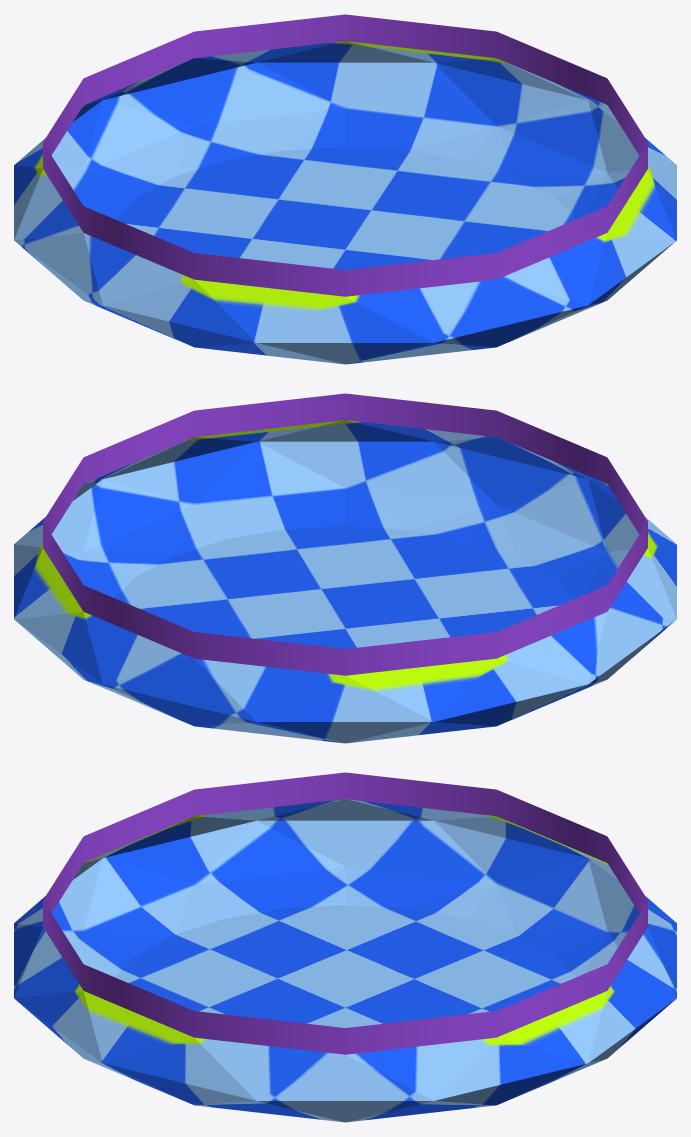
The model's file is LightCeiling10_1.FBX.
3 renders of one model, top to bottom at view 1: azimuth 30°, elevation 25°; view 2: azimuth 150°, elevation 25°; view 3: azimuth 270°, elevation 25°, orthographic.
Visible parts, largest first — view 1: LightCeiling10_1; view 2: LightCeiling10_1; view 3: LightCeiling10_1.
Part boxes in pixels (box(x1,y1,x2,y2)): LightCeiling10_1: box(14, 14, 676, 364); LightCeiling10_1: box(14, 393, 676, 743); LightCeiling10_1: box(14, 772, 676, 1122).
Bounding box in the file's own units: 81.53 × 14.59 × 81.53.
